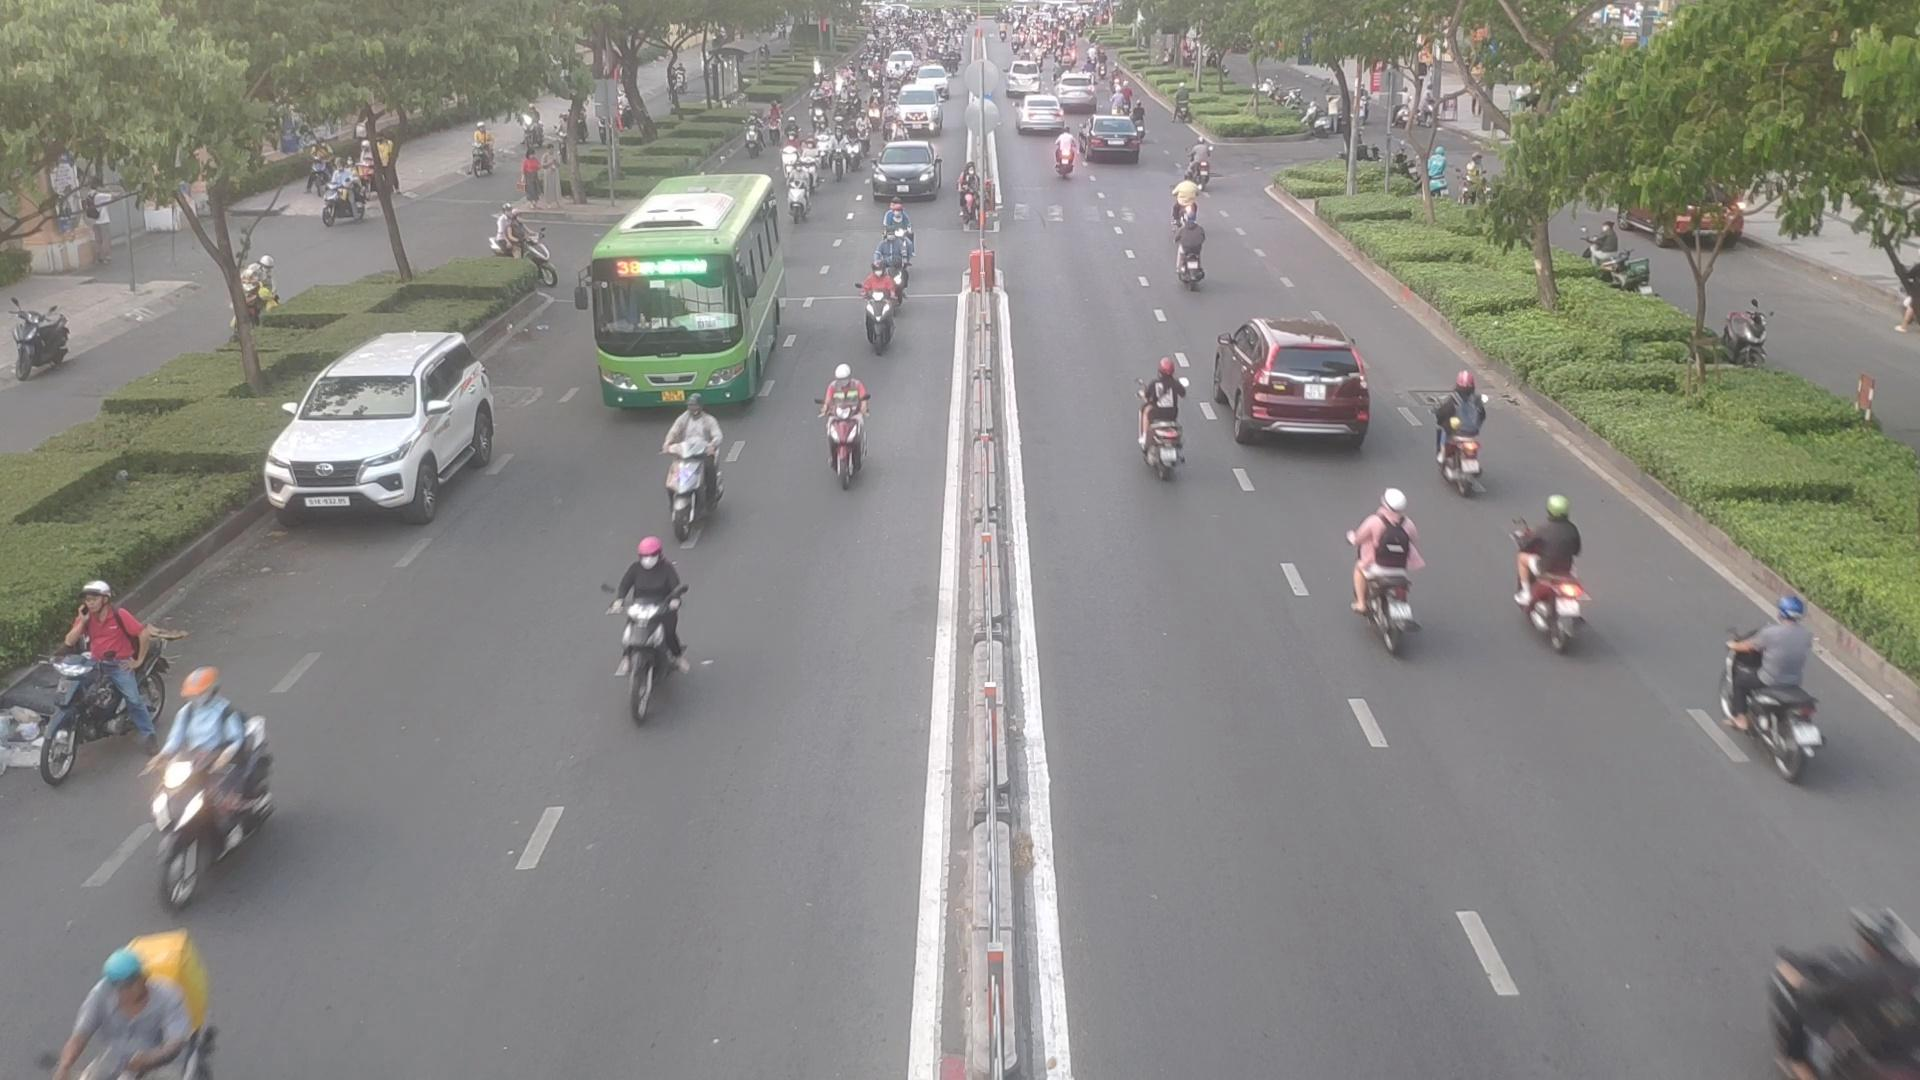bus: (579, 198, 793, 417)
car: (266, 331, 512, 527), (1207, 311, 1378, 446), (873, 144, 949, 206), (1077, 117, 1145, 164), (1015, 98, 1067, 136)
motorbike: (146, 674, 282, 893), (1768, 902, 1920, 1077), (51, 938, 224, 1076), (9, 585, 167, 731), (1705, 603, 1828, 783), (603, 538, 696, 708), (1338, 498, 1428, 646), (1507, 498, 1596, 646), (651, 400, 731, 525), (1122, 363, 1191, 483), (808, 369, 876, 488), (851, 268, 910, 359), (963, 171, 1010, 236), (1166, 222, 1208, 289), (1048, 131, 1079, 178)
